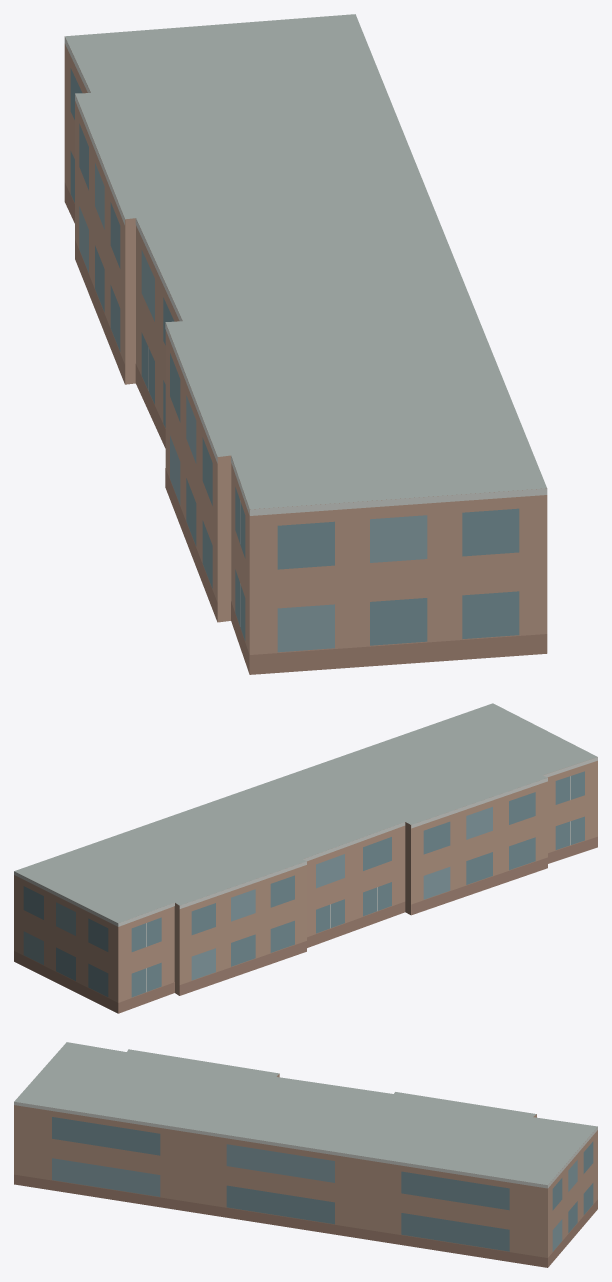
File: survey-upis-32513098.glb
3 renders of one model, top to bottom at view 1: azimuth 30°, elevation 25°; view 2: azimuth 150°, elevation 25°; view 3: azimuth 270°, elevation 25°, orthographic. The views are drawn at different scales.
Parts seen in each view (by area): view 1: survey-upis-32513098.tmp; view 2: survey-upis-32513098.tmp; view 3: survey-upis-32513098.tmp.
Part boxes in pixels (x1,y1,x2,y2): survey-upis-32513098.tmp: (64, 14, 547, 674); survey-upis-32513098.tmp: (14, 703, 597, 1013); survey-upis-32513098.tmp: (14, 1042, 597, 1267).
Size of the model in its own units: 22.67 by 6.1 by 39.05.
